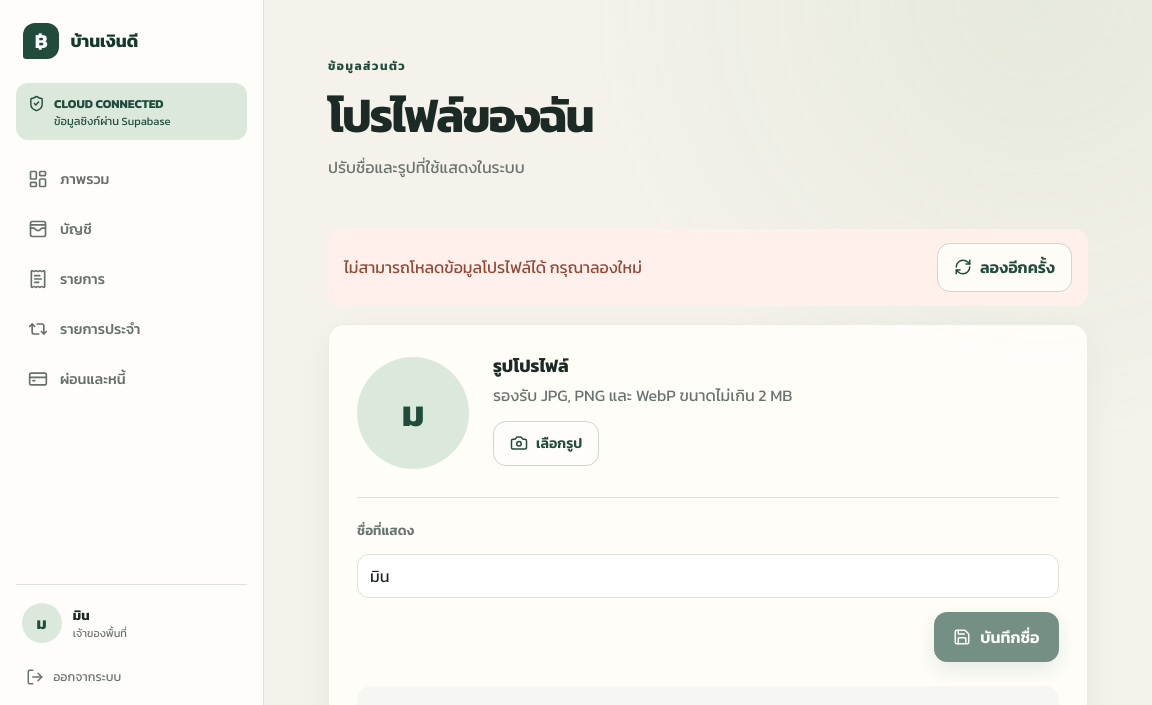
Test case: cloud application flow › shows profile load errors and retries only the profile request
The image size is (1152, 705).
Expected: the message shows "ไม่สามารถโหลดข้อมูลโปรไฟล์ได้", [344,255,642,279]
Click the button "ลองอีกครั้ง".
click(1004, 267)  # box [937,243,1072,292]
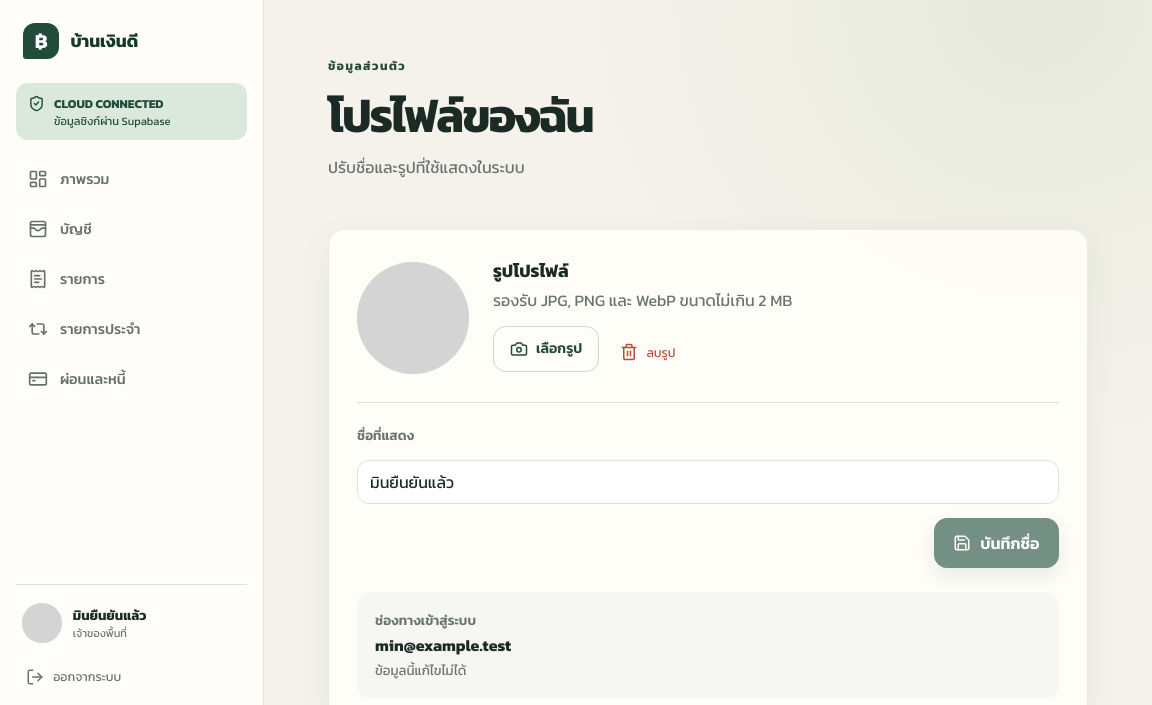
Expected: the field labelled "ชื่อที่แสดง" holds "มินยืนยันแล้ว", [357,460,1059,504]
